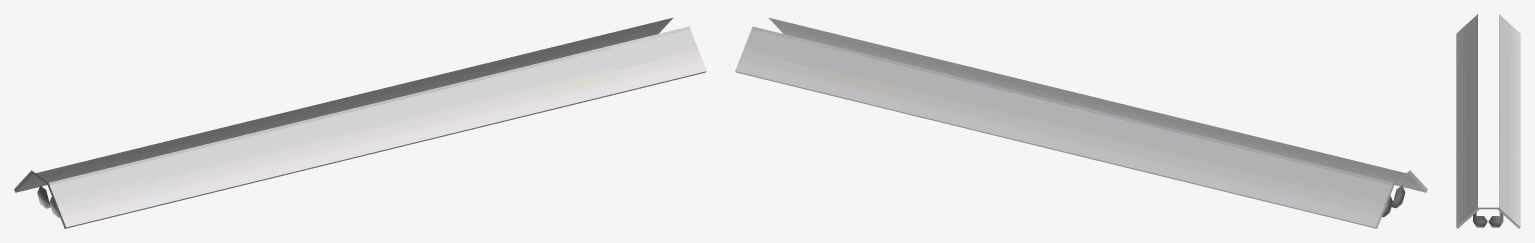
The model's file is StripLightOn.glb.
3 views of the same model, side by side, from view 1: azimuth 30°, elevation 25°; view 2: azimuth 150°, elevation 25°; view 3: azimuth 270°, elevation 25° (orthographic). The views are drawn at different scales.
Parts seen in each view (by area): view 1: STRIPLIGHTON; view 2: STRIPLIGHTON; view 3: STRIPLIGHTON.
Part boxes in pixels (x1=…): STRIPLIGHTON: x1=14, y1=17, x2=706, y2=228; STRIPLIGHTON: x1=735, y1=17, x2=1427, y2=228; STRIPLIGHTON: x1=1456, y1=14, x2=1520, y2=228.
Bounding box in the file's own units: 1.85 × 0.101 × 0.261.
1 material, 1 textured.
